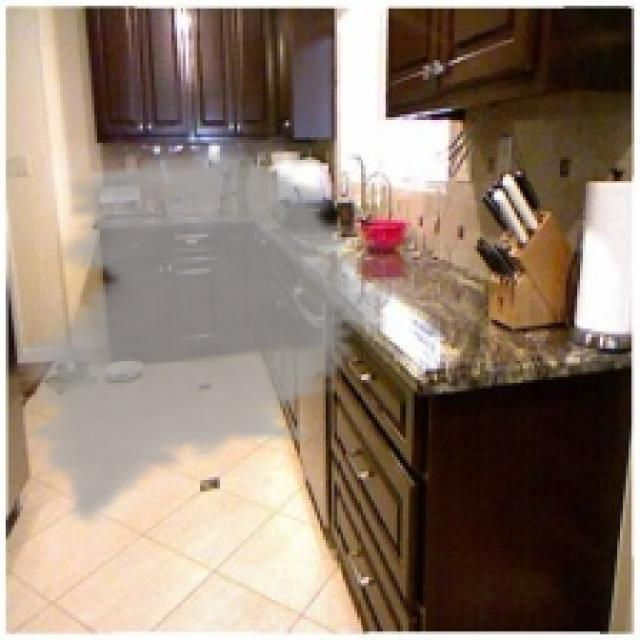smoke: (3, 145, 400, 526)
